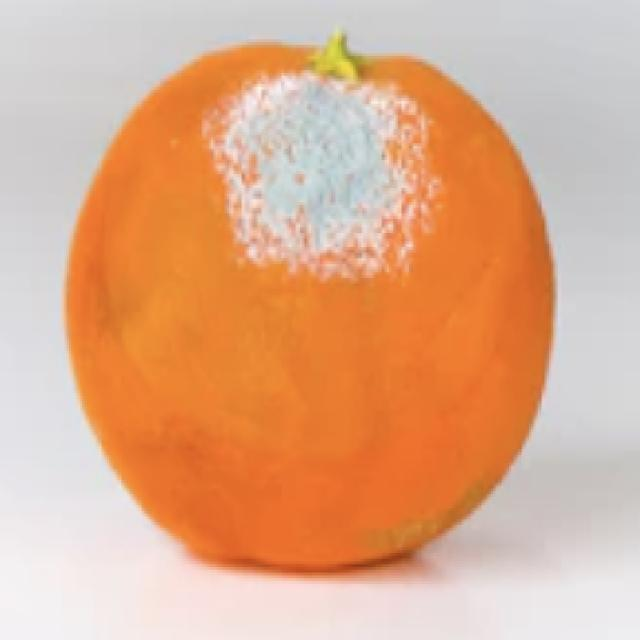orange: (67, 34, 553, 569)
